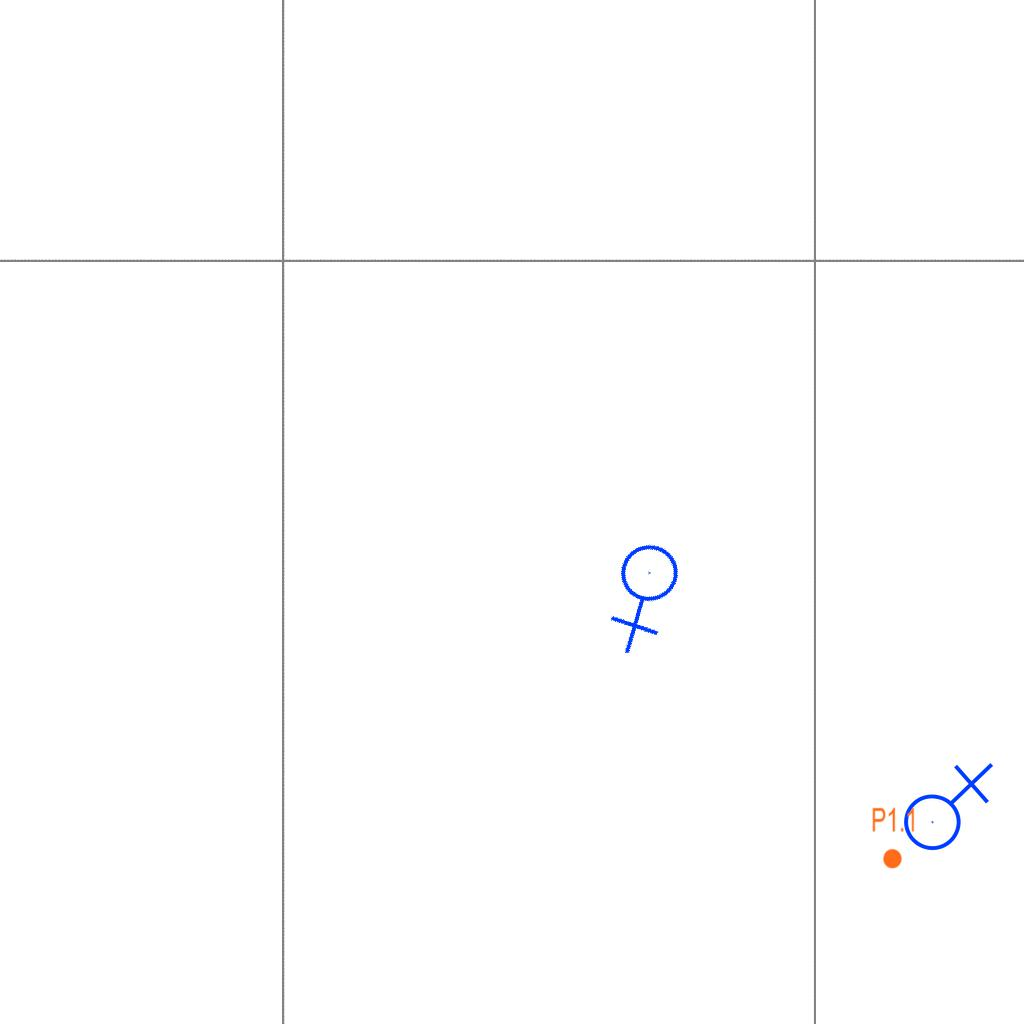Downlight_LED_Einbauleuchten_Flur: (871, 806, 917, 870)
Elektroanschluss_allgemein_230V_Geraeteanschlussdose_230V: (581, 528, 714, 660), (895, 758, 994, 852)
